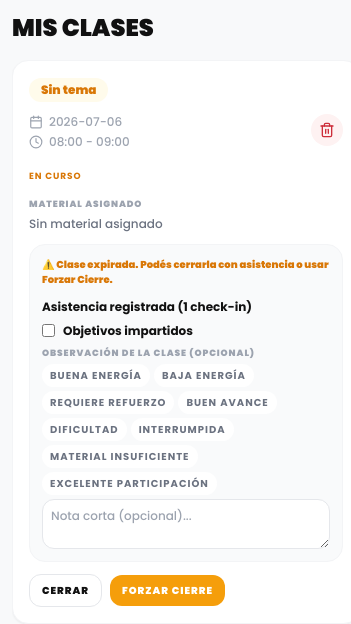
Test: MisClasesView › cierra una clase en curso solo tras registrar asistencia y objetivos, igual que JornadasView
The width and height of the screenshot is (351, 624).
Check: the text "En curso" is shown, box [29,170,81,182]
Check: the text "Asistencia registrada (1 check-in)" is shown, box [42,298,252,314]
Click the checkbox labelled "Objetivos impartidos" at (48,330), box [42,324,55,337]
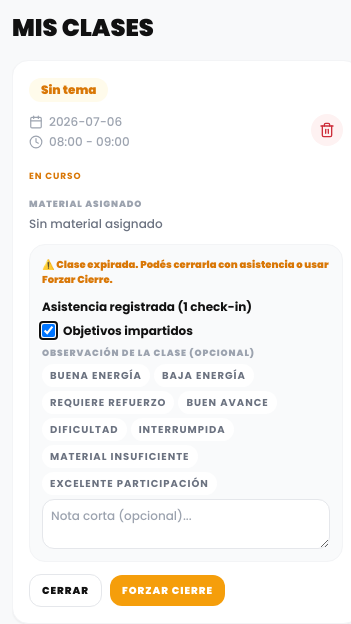
Click the button "Cerrar" at (65,590), box [29,574,102,607]
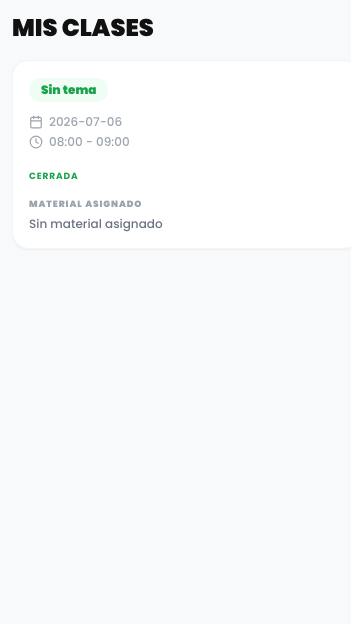
Check: the text "Cerrada" is shown, box [29,170,79,182]
